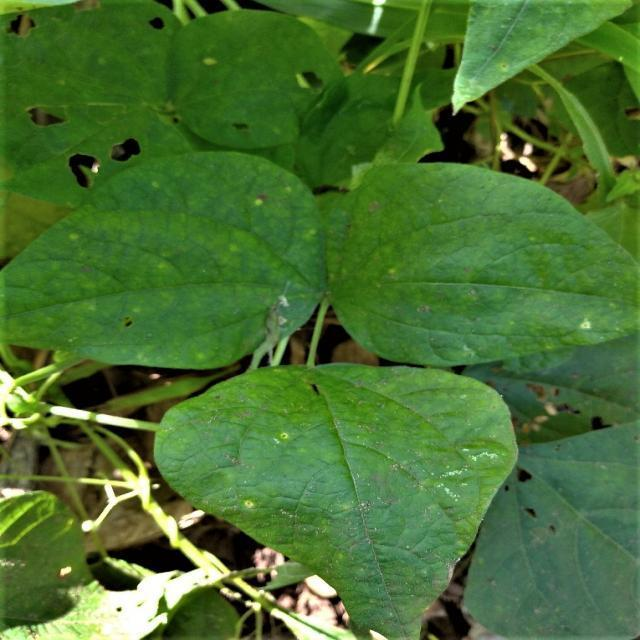hawar: (166, 384, 506, 630), (30, 181, 337, 363), (348, 171, 627, 363)
mozaik: (0, 9, 181, 179), (182, 26, 322, 146)
